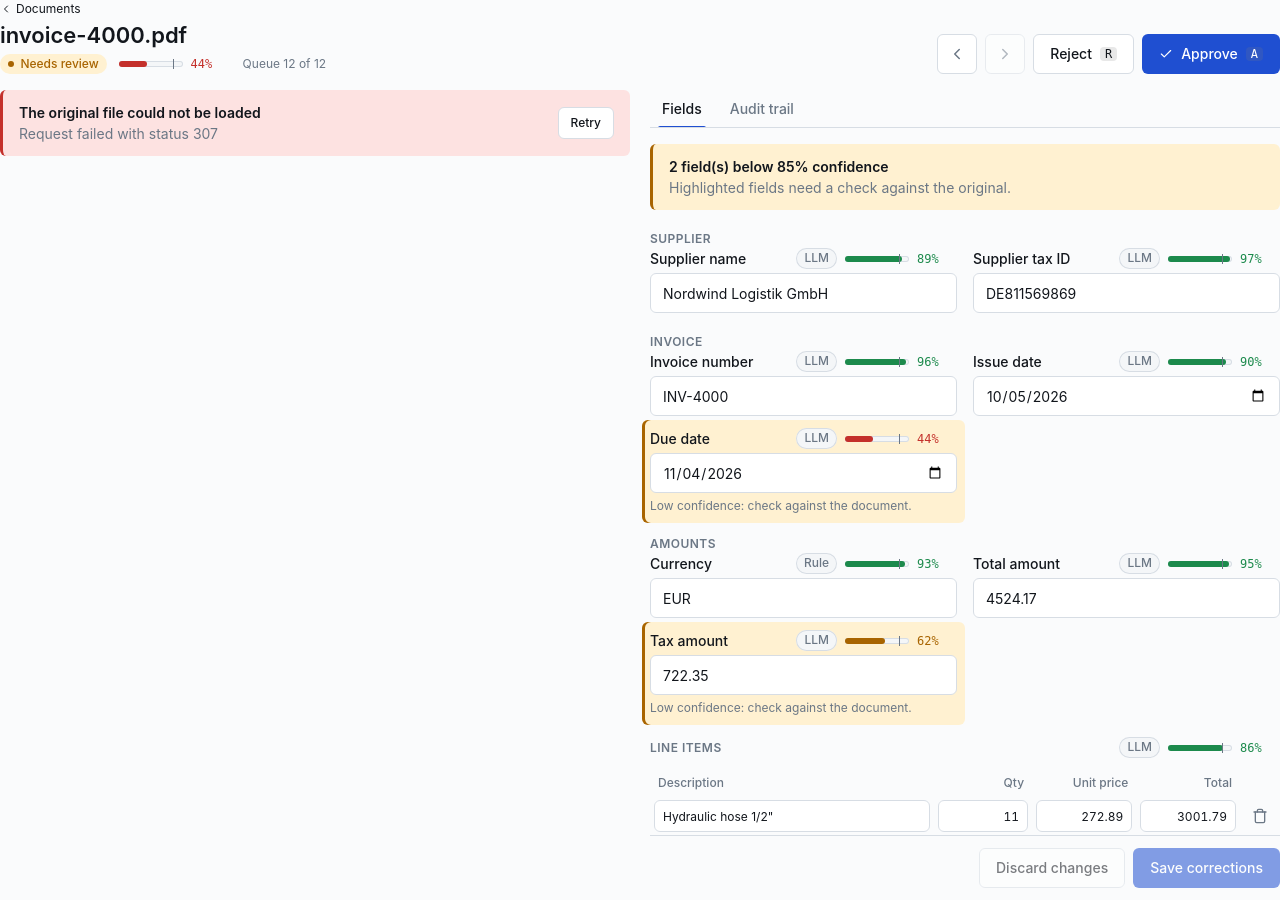
Test case: Review workbench › offers a reload when someone else changed the document (412)
Replace the text in the field labelled "Supplier name" with "Stale Edit SA" at (804, 293), box [650, 273, 957, 313]
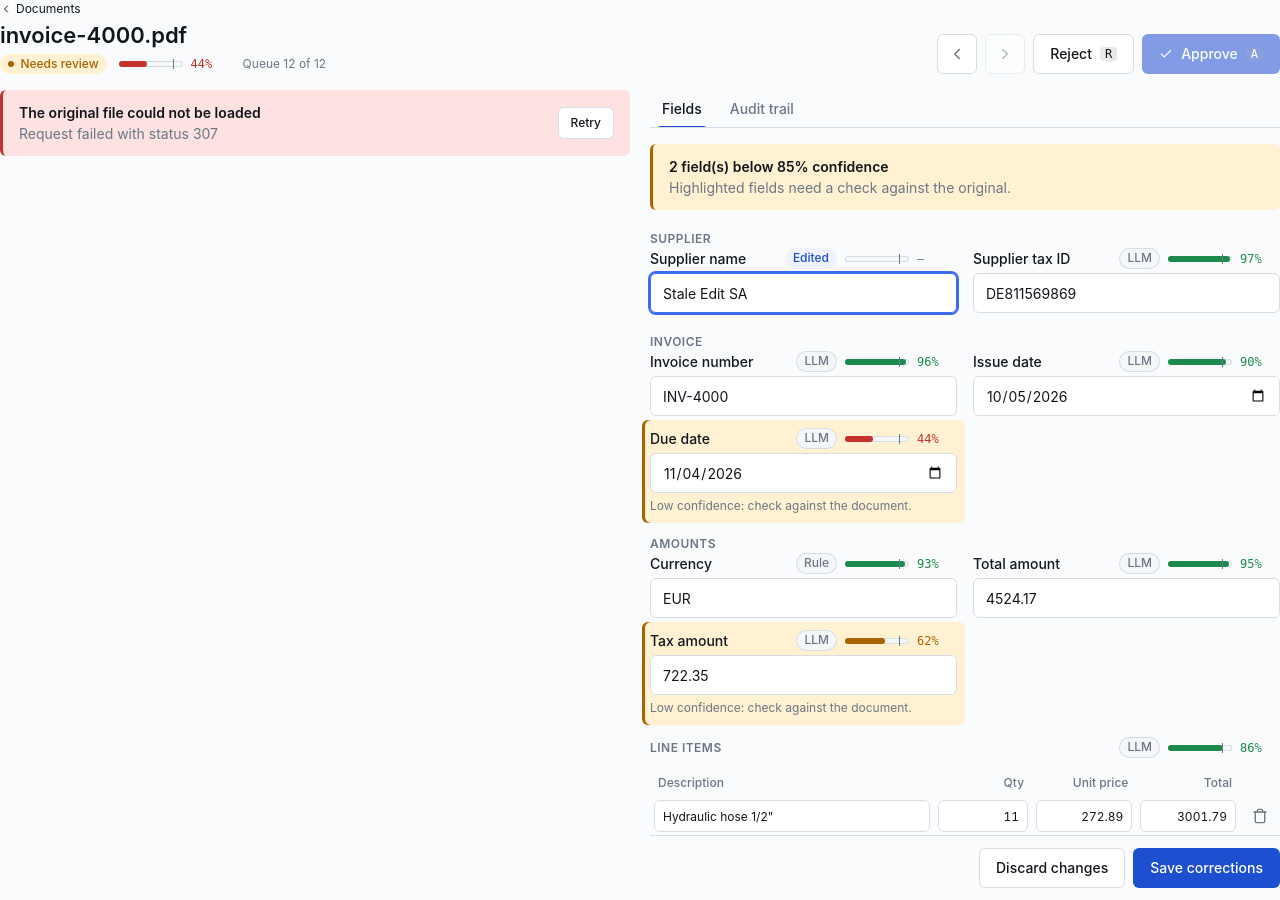
Click the button "Save corrections" at (1207, 868), box [1133, 848, 1279, 888]
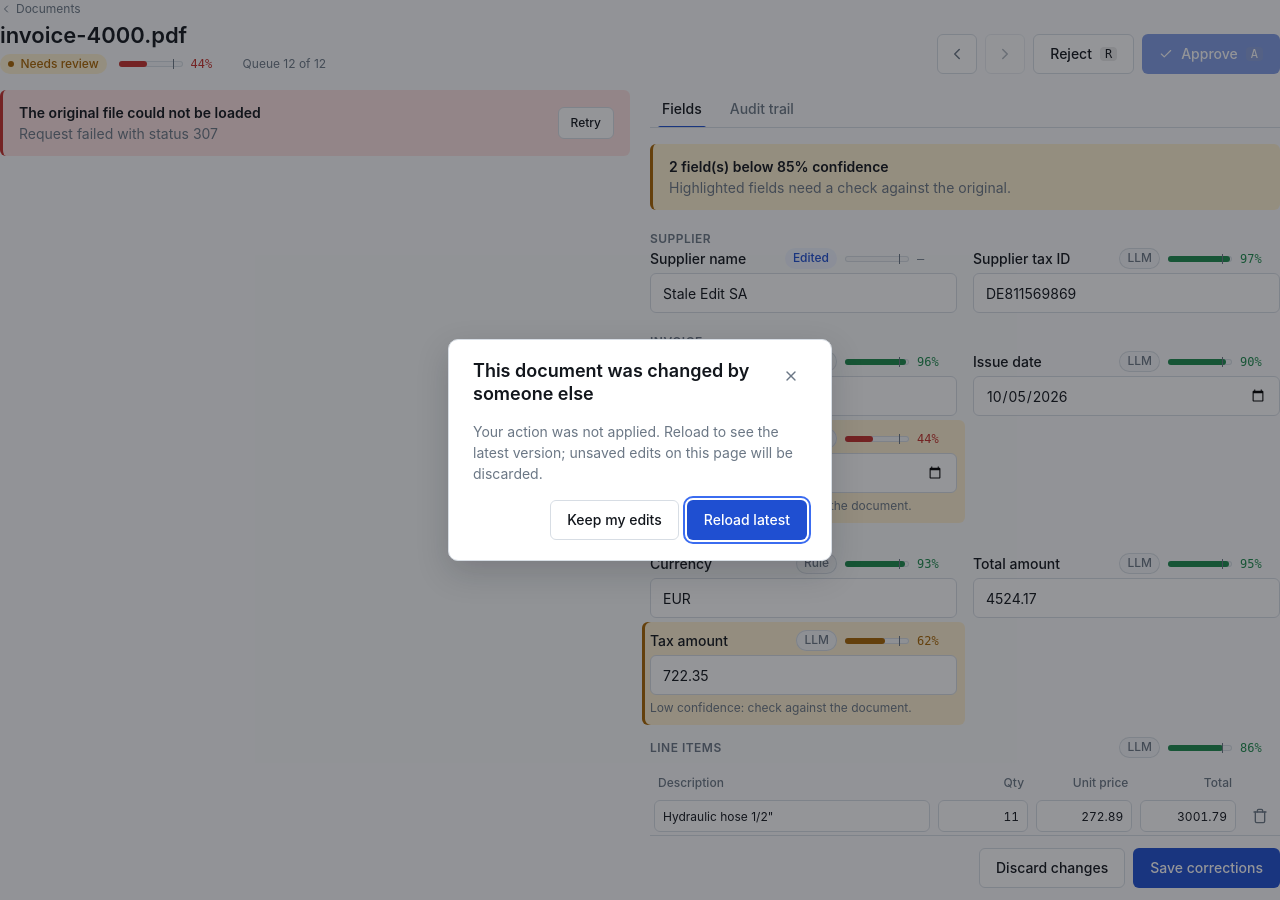
Click the button "Reload latest" at (747, 520), box [687, 500, 807, 540]
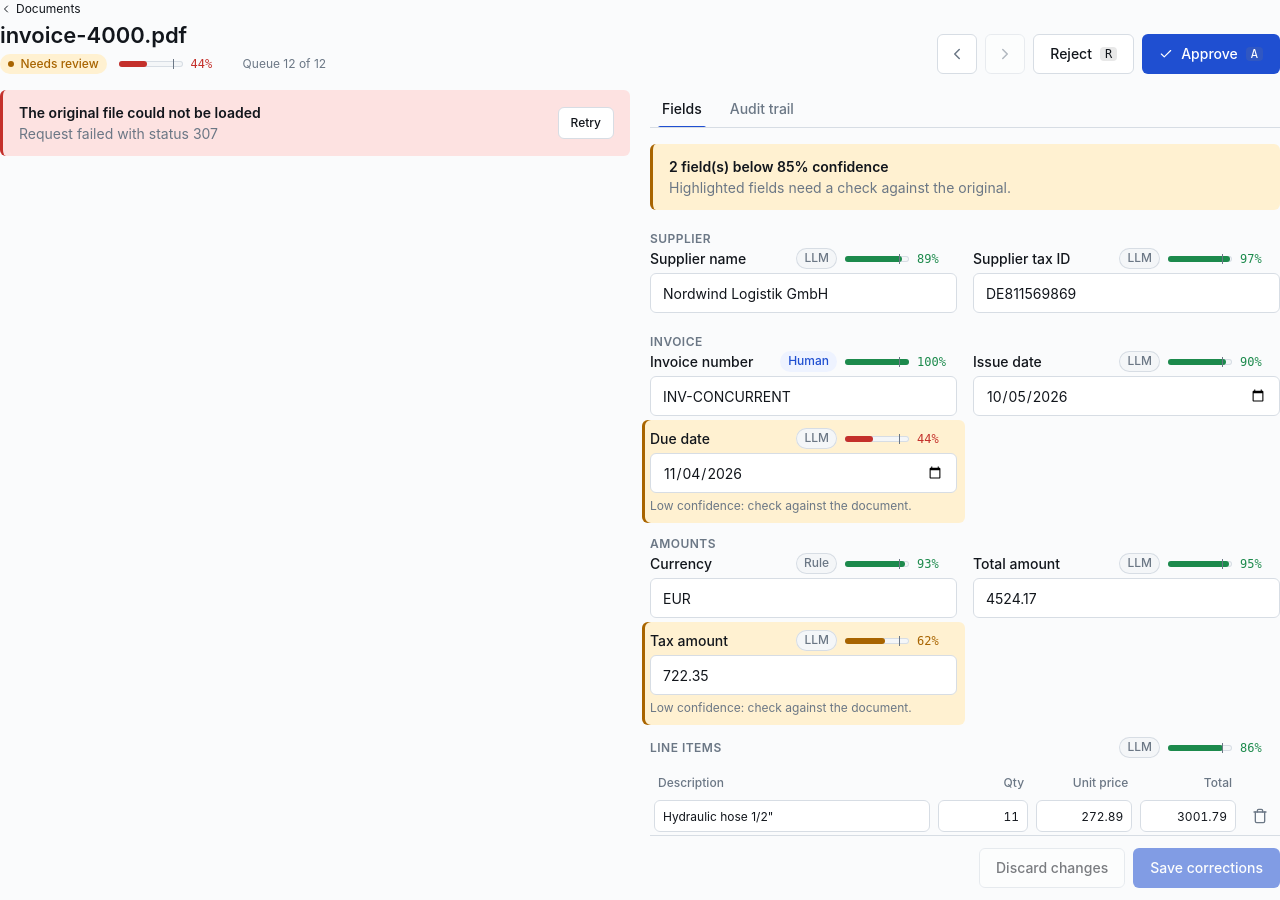
Result: the dialog is gone
Result: the field labelled "Invoice number" holds "INV-CONCURRENT" at [650, 376, 957, 416]
Result: the field labelled "Supplier name" does not hold "Stale Edit SA" at [650, 273, 957, 313]
